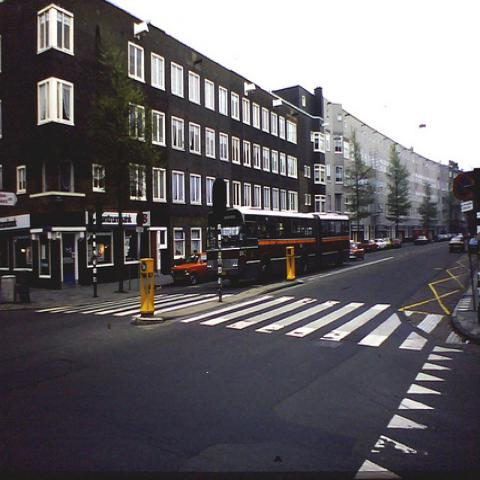bus: (206, 208, 352, 288)
car: (170, 252, 218, 284), (448, 236, 466, 254), (349, 242, 365, 261), (362, 239, 378, 253), (374, 238, 387, 250), (415, 235, 429, 246), (391, 238, 402, 248), (383, 238, 392, 250), (434, 234, 444, 243)
